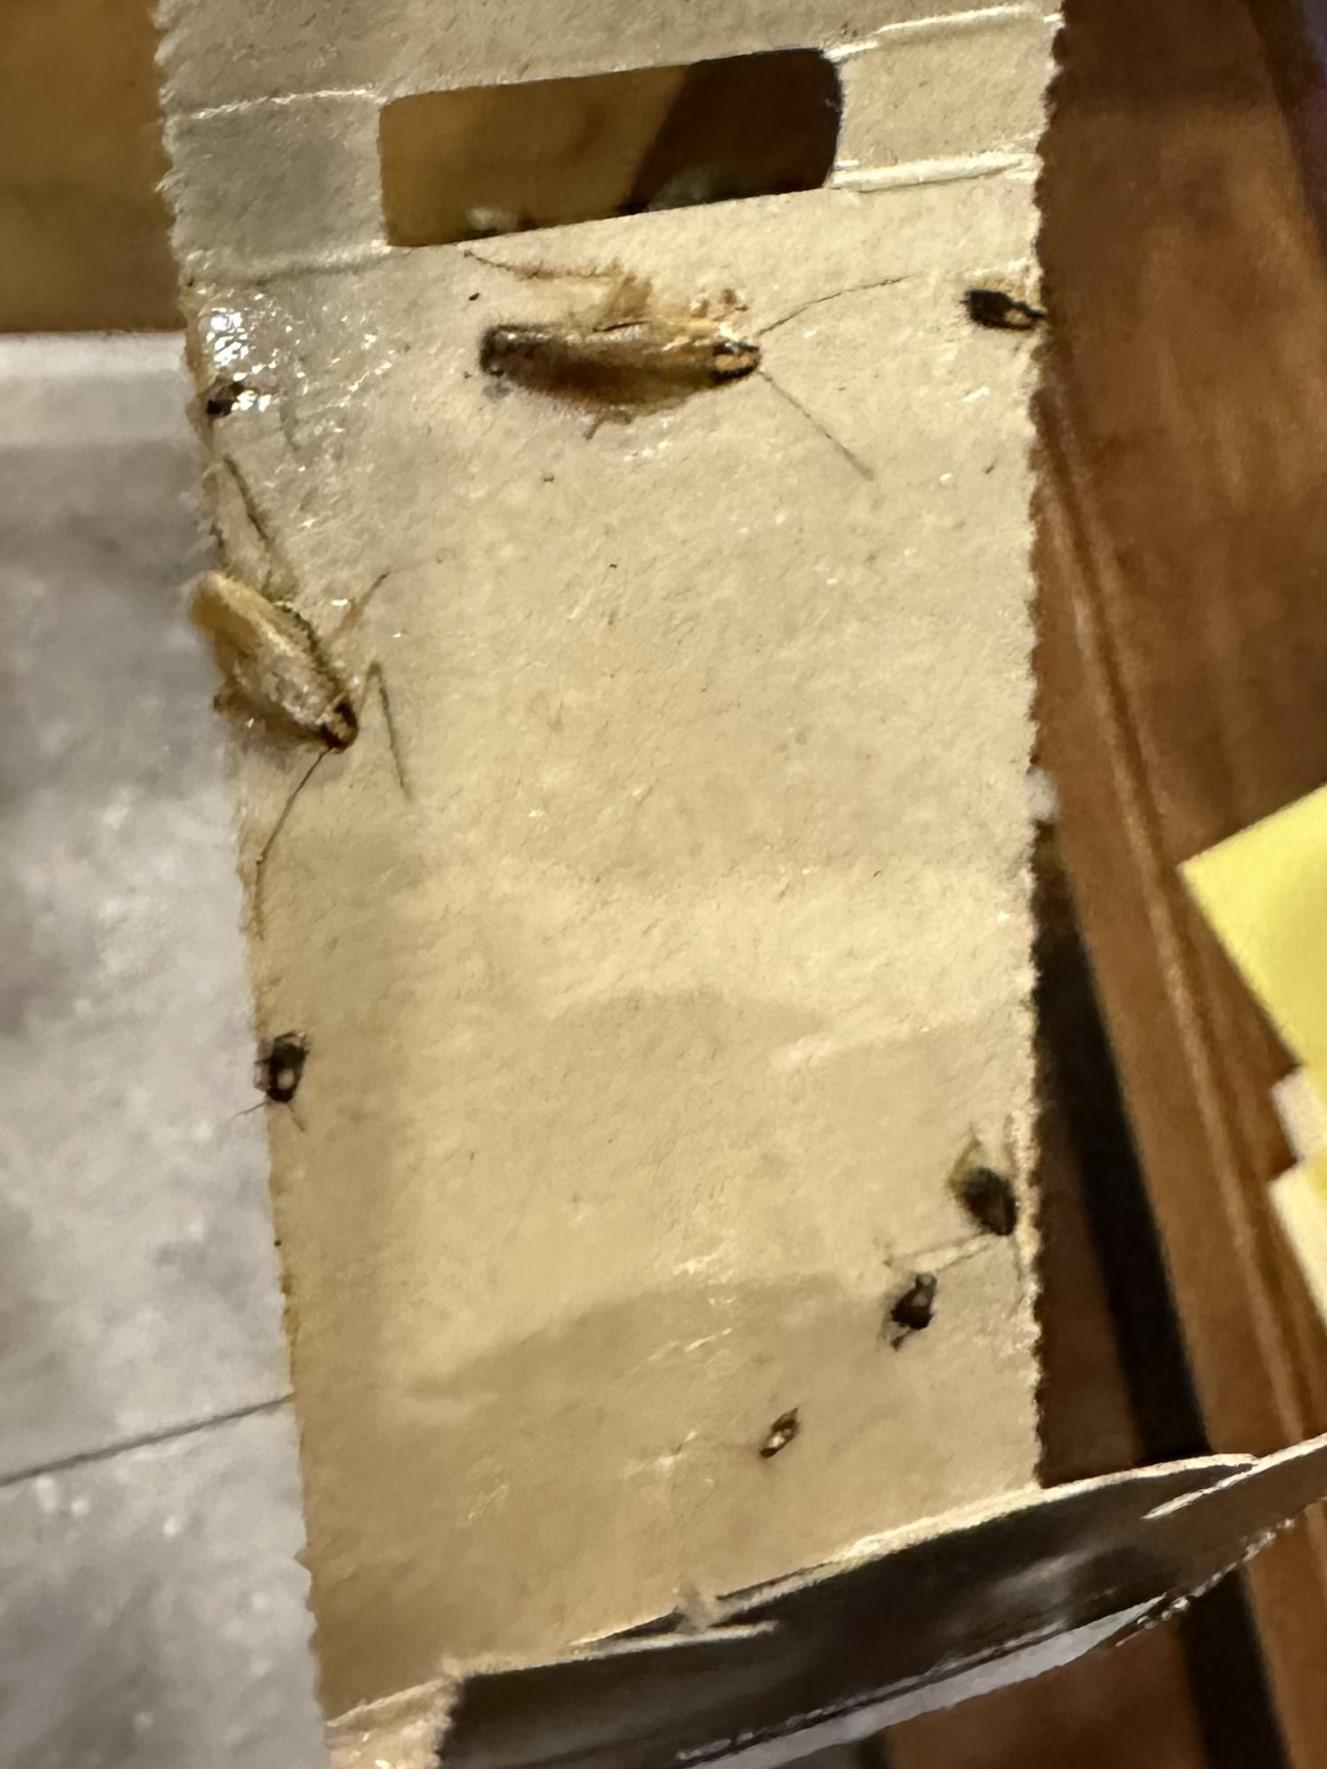cockroach: (127, 531, 442, 914), (369, 224, 860, 464)
